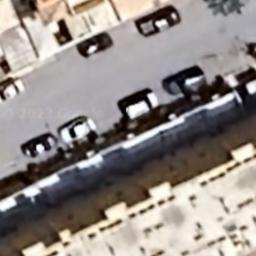SUV: (161, 66, 208, 96), (73, 30, 119, 60)
pickup: (135, 4, 184, 38)
sedan: (56, 118, 99, 144), (18, 132, 60, 158), (0, 78, 25, 103)
van: (116, 89, 162, 121)
